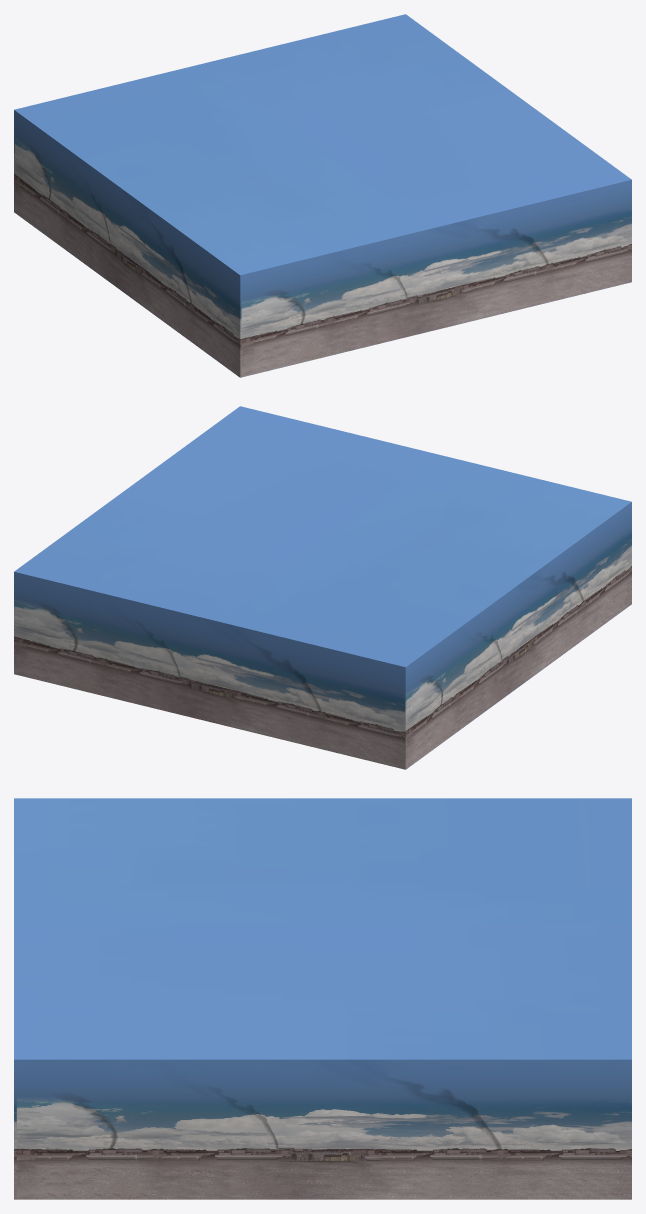
The model's file is chicago.dae.
3 views of the same model, one above another, from view 1: azimuth 30°, elevation 25°; view 2: azimuth 150°, elevation 25°; view 3: azimuth 270°, elevation 25° (orthographic). The views are drawn at different scales.
Parts seen in each view (by area): view 1: Box518; view 2: Box518; view 3: Box518.
Part boxes in pixels (x1,y1,x2,y2): Box518: (14, 14, 631, 377); Box518: (14, 406, 631, 769); Box518: (14, 798, 631, 1199).
Size of the model in its own units: 59.76 by 59.76 by 14.94.
14 materials, 5 textured.
